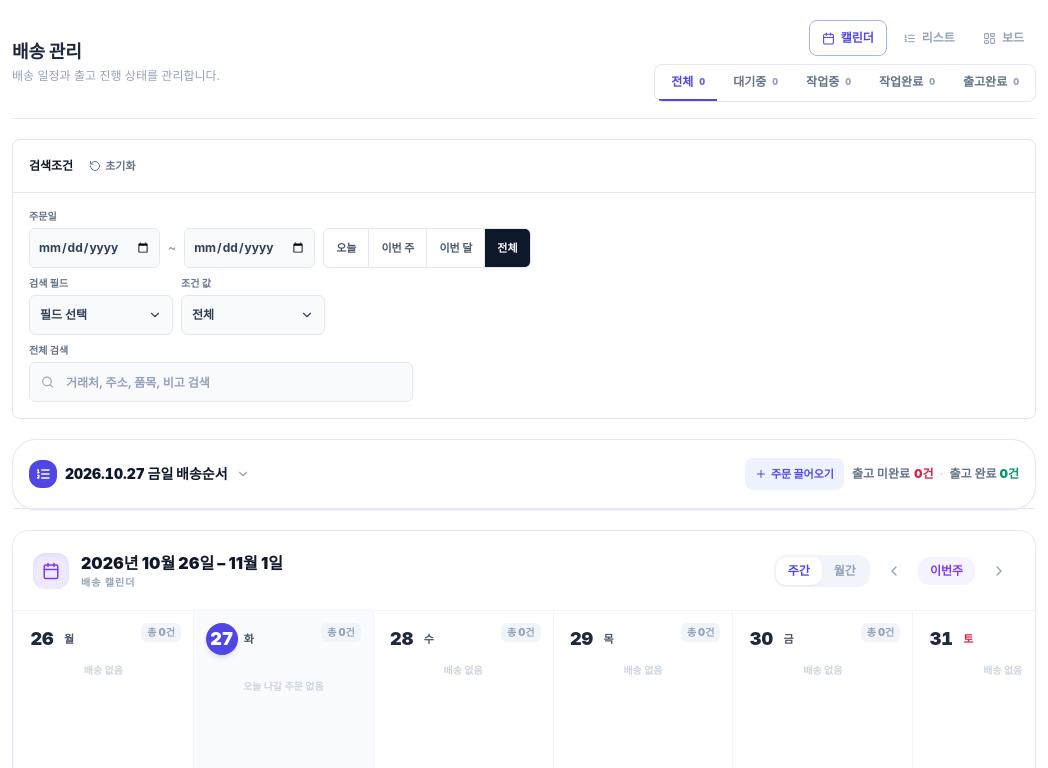
Test: 주문일 빠른기간 자동선택·수동변경·기간전체와 검색전체 초기화를 유지한다
Click the button "이번 달" at (456, 248), box x1=427 y1=229 x2=485 y2=267
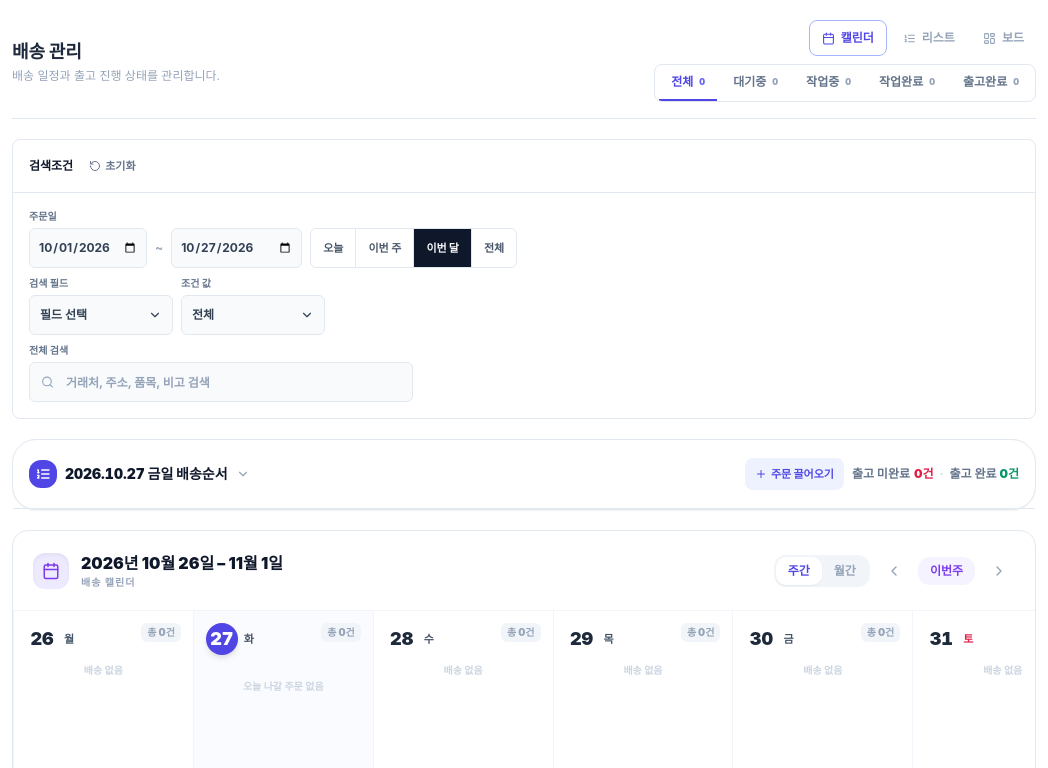
Check: the date field named "주문일 시작" holds "2026-10-01"
Type "2020-01-01" into the date field named "주문일 시작" at (88, 248), box x1=29 y1=228 x2=147 y2=268
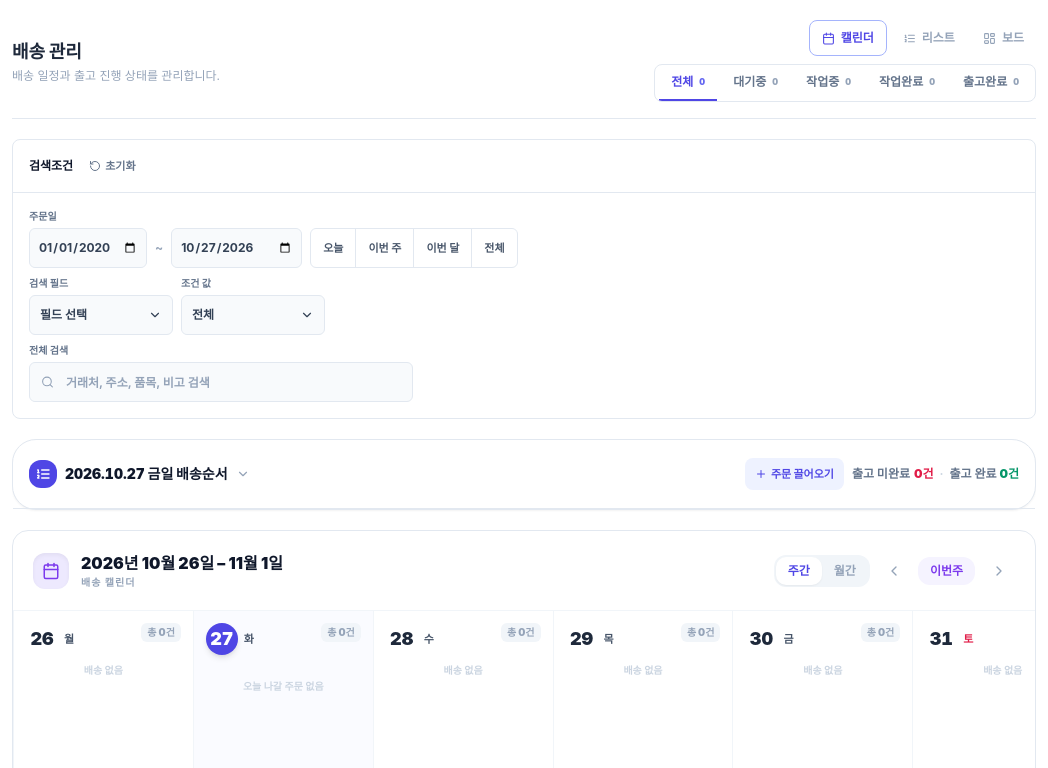
Check: the button "이번 달" is not pressed, box x1=414 y1=229 x2=472 y2=267
Click the button with aria-label "기간 전체" at (494, 248), box x1=472 y1=229 x2=517 y2=267
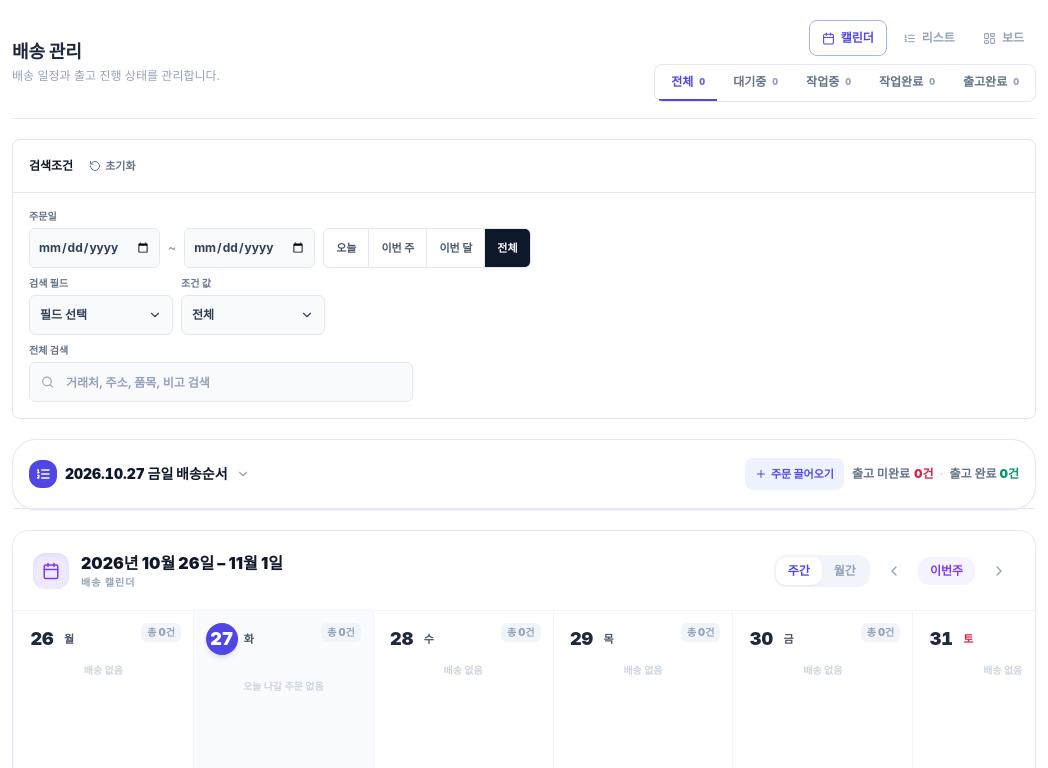
Check: the date field named "주문일 시작" is empty, box x1=29 y1=228 x2=160 y2=268
Check: the date field named "주문일 종료" is empty, box x1=184 y1=228 x2=315 y2=268
Click the button "오늘" at (347, 248), box x1=324 y1=229 x2=370 y2=267
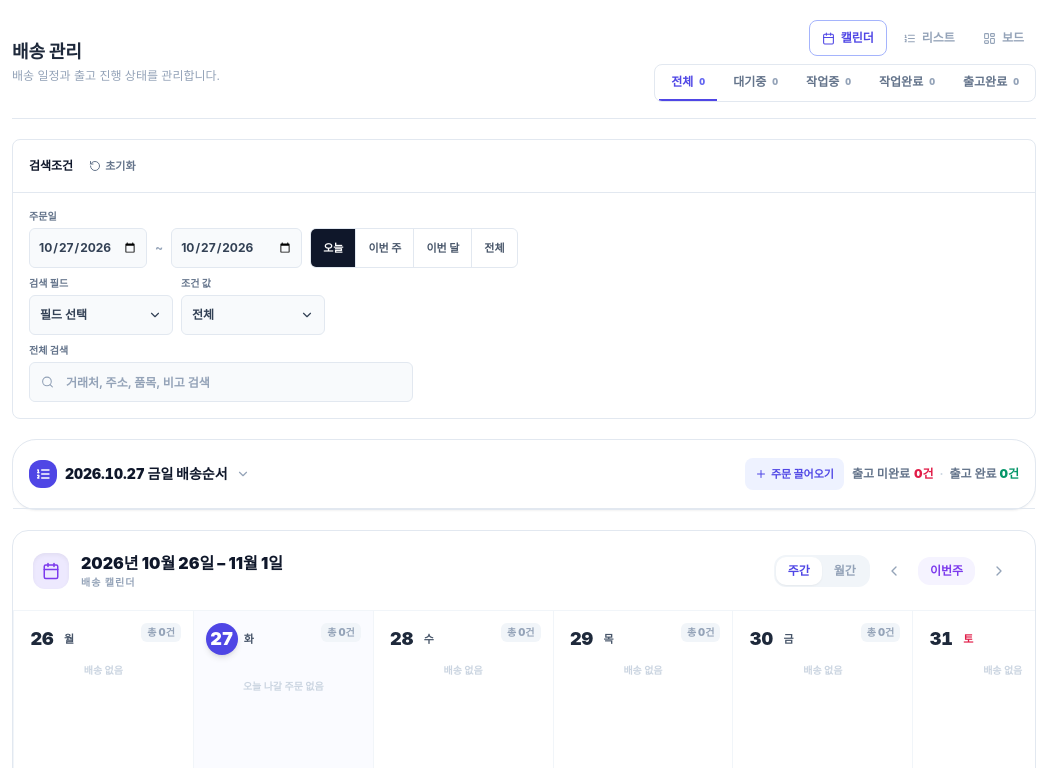
Type "참기름" into the search field with placeholder "거래처, 주소, 품목, 비고 검색" at (221, 382), box x1=29 y1=362 x2=413 y2=402
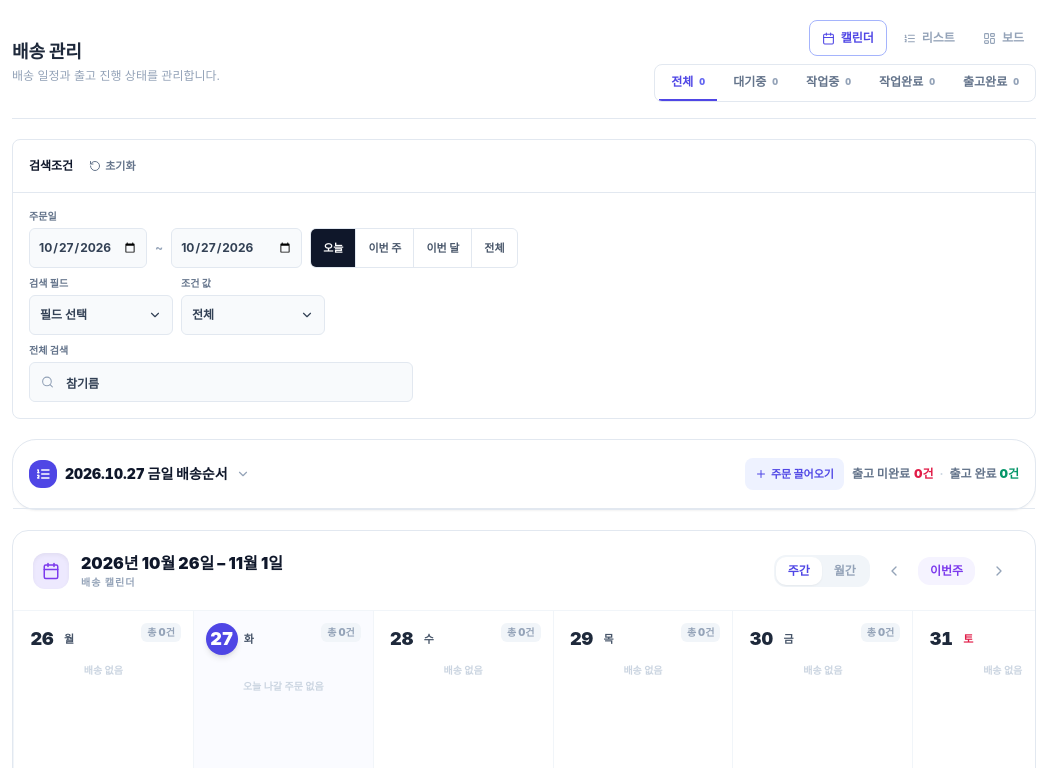
Click the button "초기화" at (112, 166), box x1=81 y1=150 x2=144 y2=182
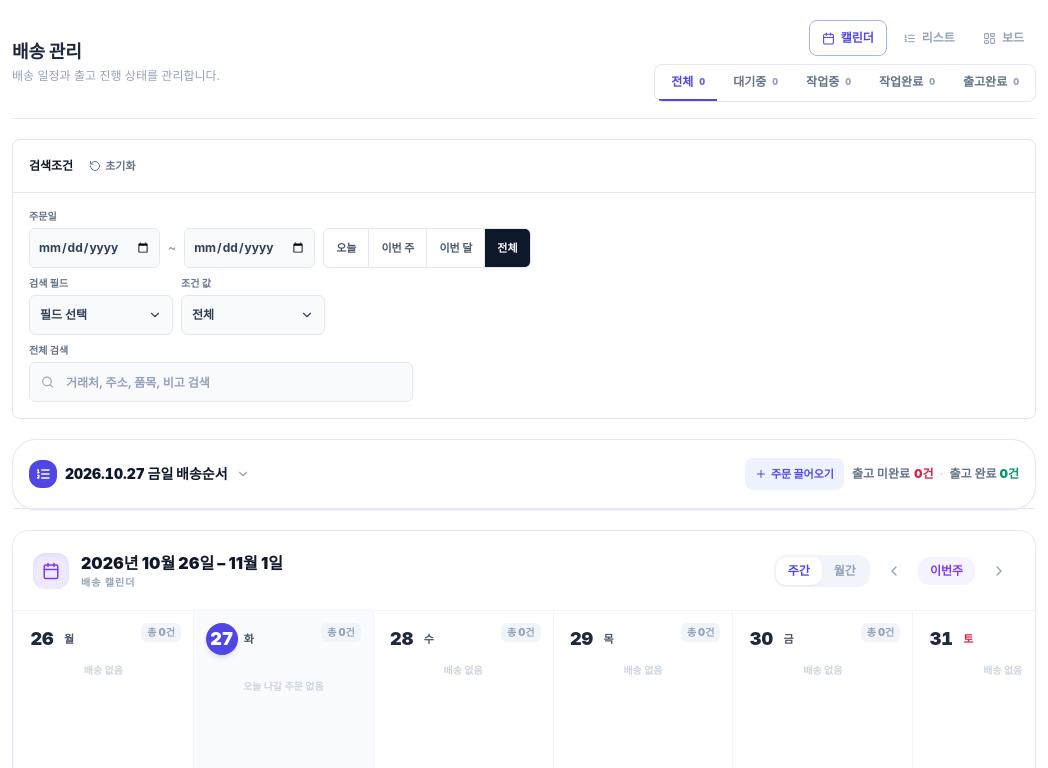
Check: the date field named "주문일 시작" is empty, box x1=29 y1=228 x2=160 y2=268
Check: the date field named "주문일 종료" is empty, box x1=184 y1=228 x2=315 y2=268
Check: the search field with placeholder "거래처, 주소, 품목, 비고 검색" is empty, box x1=29 y1=362 x2=413 y2=402
